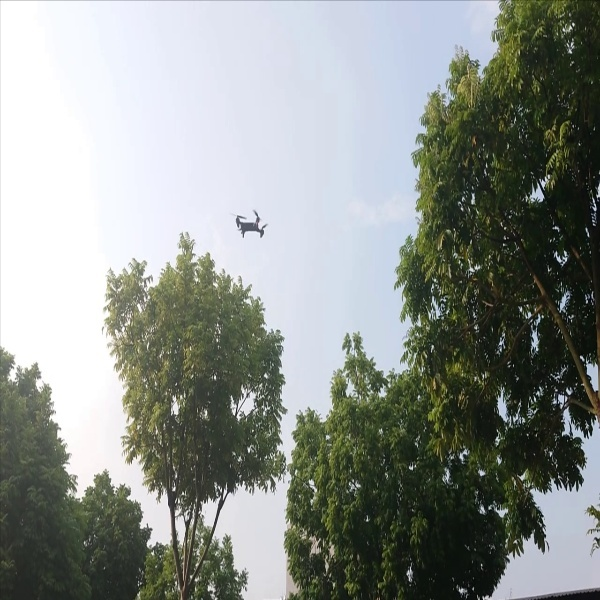drone: (234, 206, 274, 242)
